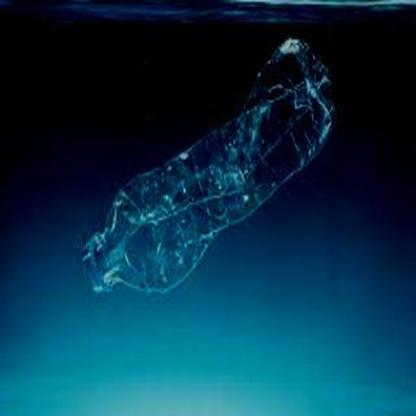plastic bottle: (80, 38, 336, 293)
